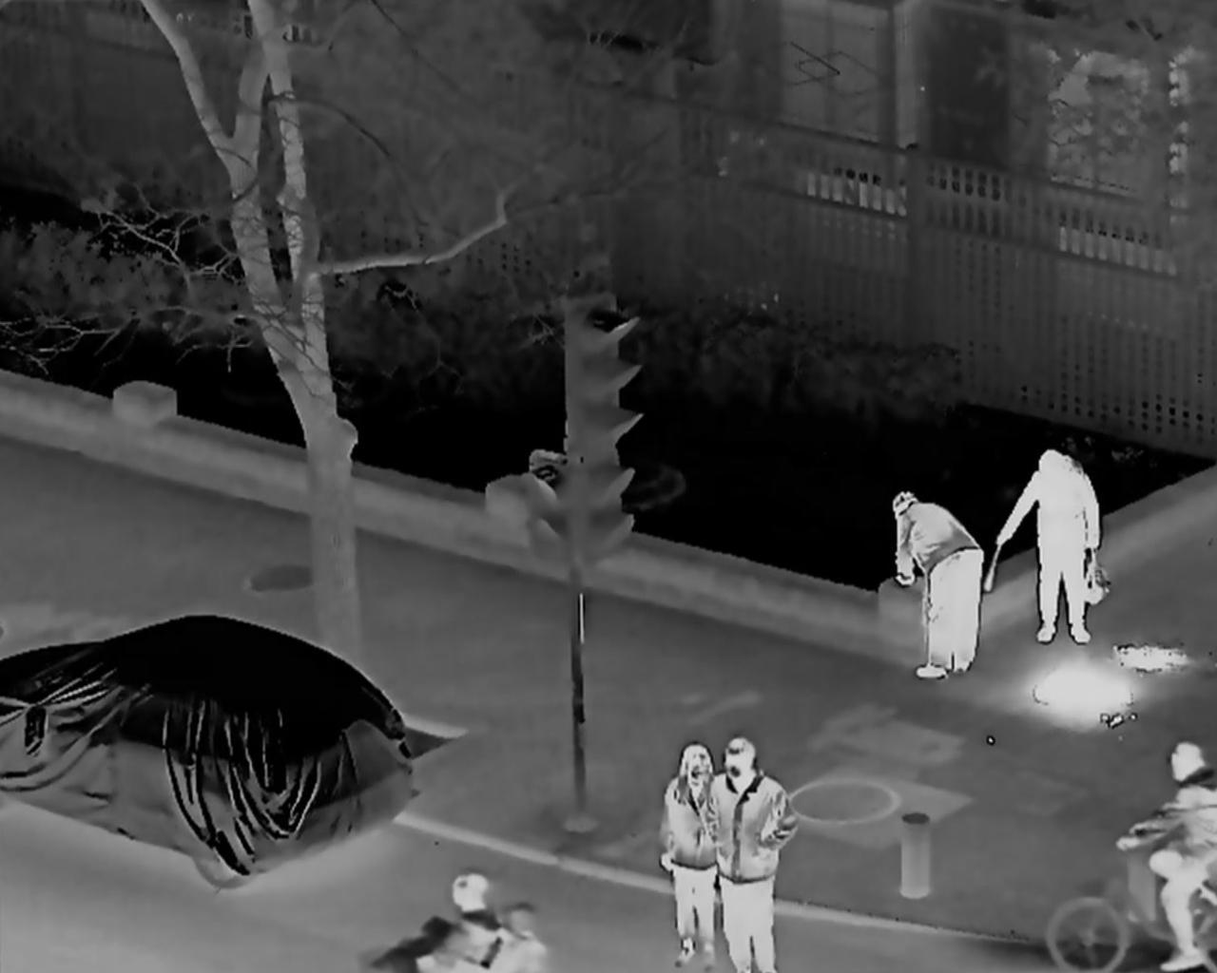person: (1115, 739, 1217, 972), (992, 447, 1102, 643), (714, 747, 796, 973), (889, 490, 983, 685), (654, 743, 720, 961), (415, 873, 495, 973)
